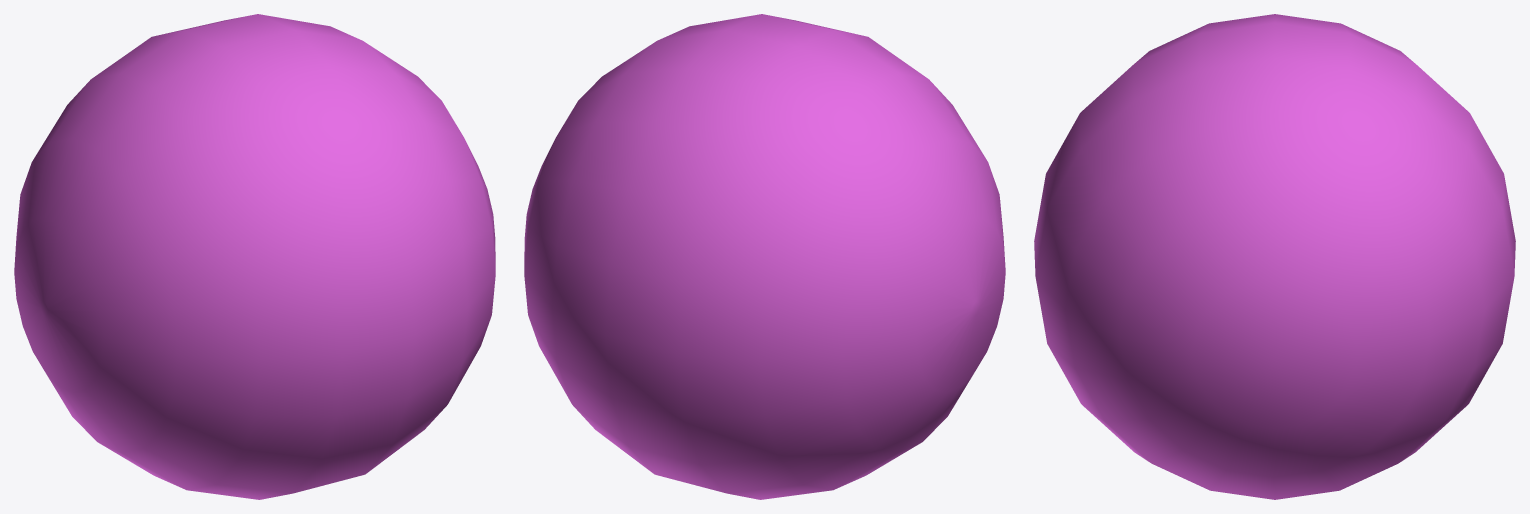
Rendered from SM_CircusBall.fbx.
The picture shows the model from 3 angles, left to right: view 1: azimuth 30°, elevation 25°; view 2: azimuth 150°, elevation 25°; view 3: azimuth 270°, elevation 25°; orthographic projection.
Visible parts, largest first — view 1: CircusBall_low; view 2: CircusBall_low; view 3: CircusBall_low.
Part boxes in pixels (x1=…): CircusBall_low: x1=14, y1=14, x2=495, y2=499; CircusBall_low: x1=524, y1=14, x2=1005, y2=499; CircusBall_low: x1=1034, y1=14, x2=1515, y2=499.
Size of the model in its own units: 22.95 by 22.67 by 22.67.
